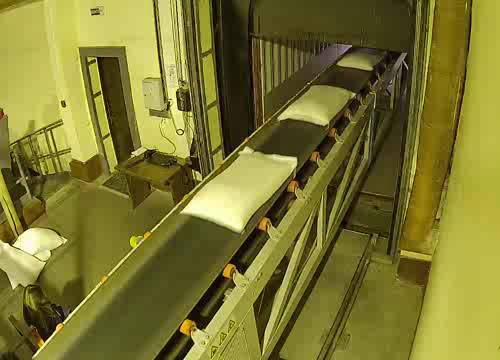bag: (176, 143, 304, 236), (272, 81, 364, 133), (333, 43, 391, 74)
